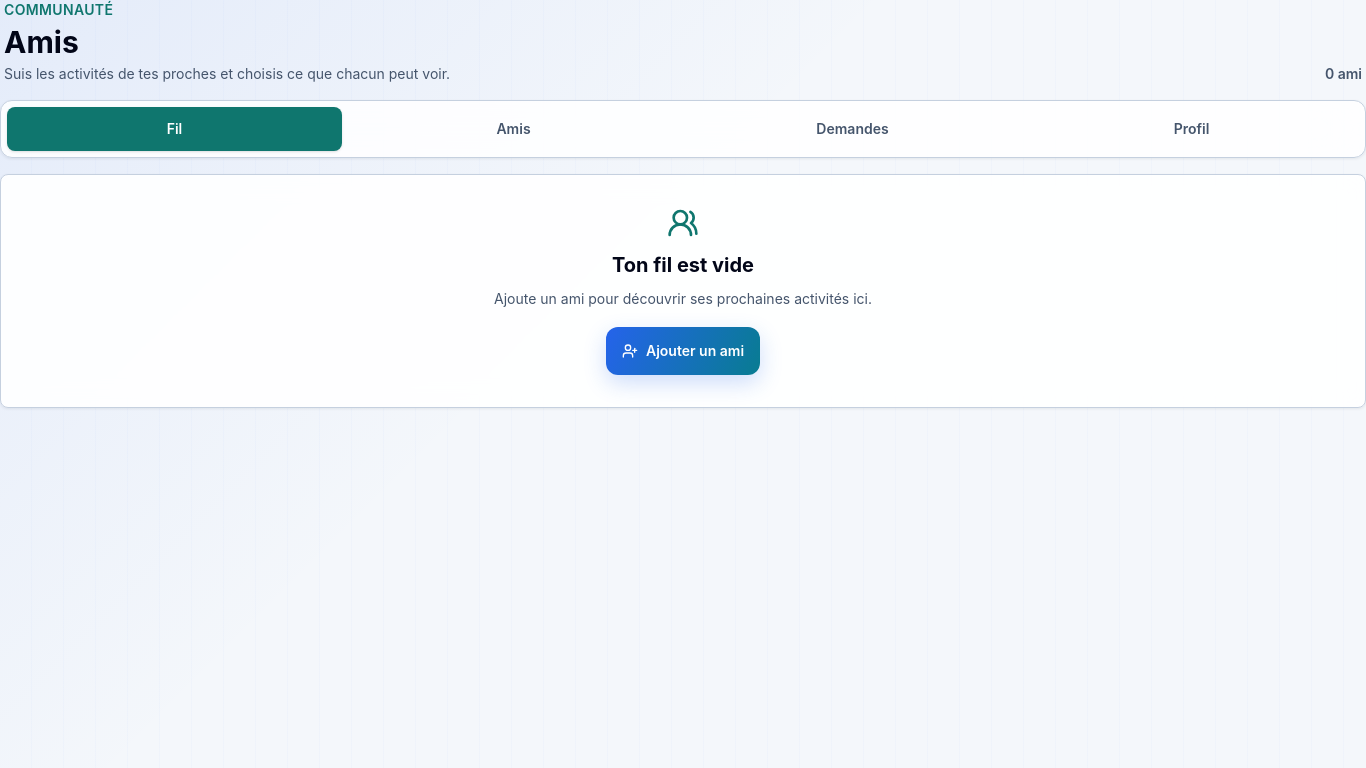
statut de l’identifiant public › place l’icône Copier avec le champ, puis le statut et l’action principale
The width and height of the screenshot is (1366, 768).
Step 1. Click the button with aria-label "Mon profil social" → (1192, 129), box [1024,107,1359,151]
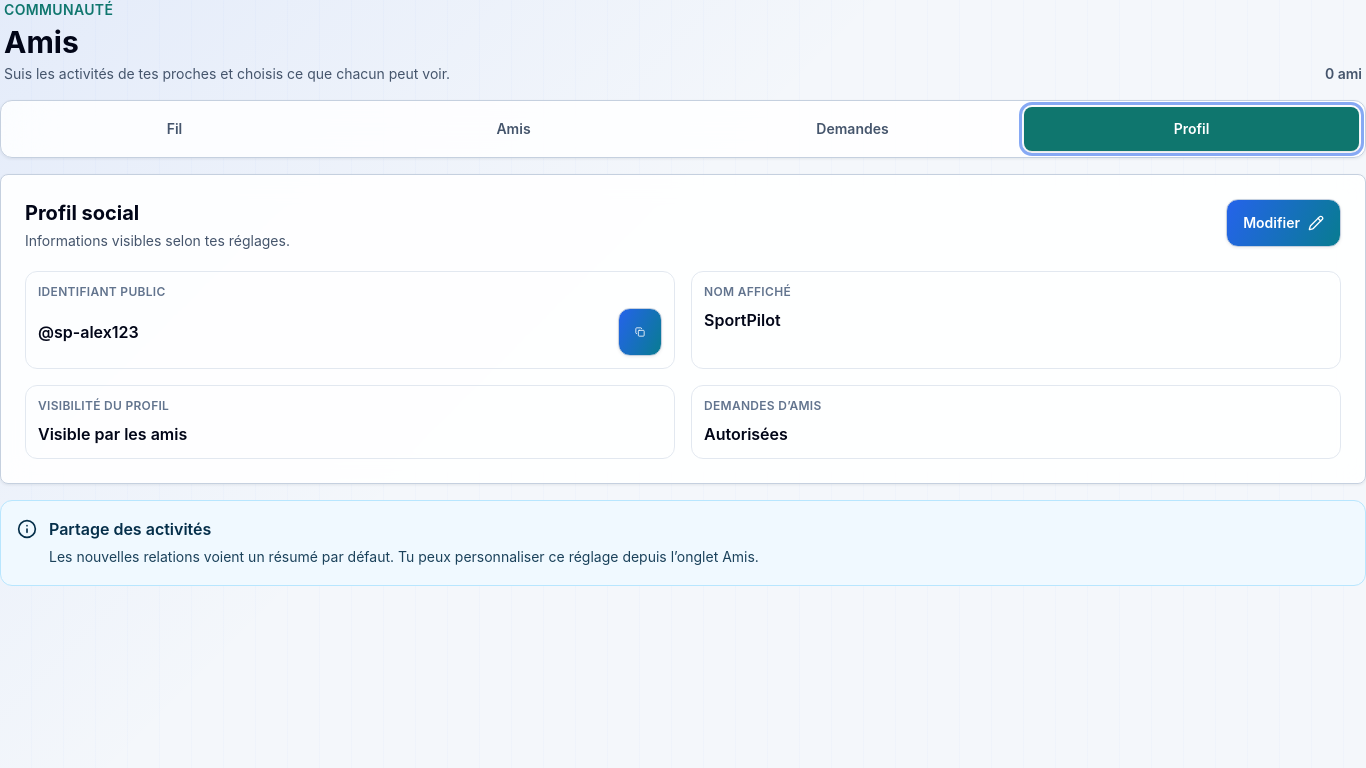
Step 2. Click the button with aria-label "Modifier le profil public" → (1284, 223), box [1226,199,1341,247]
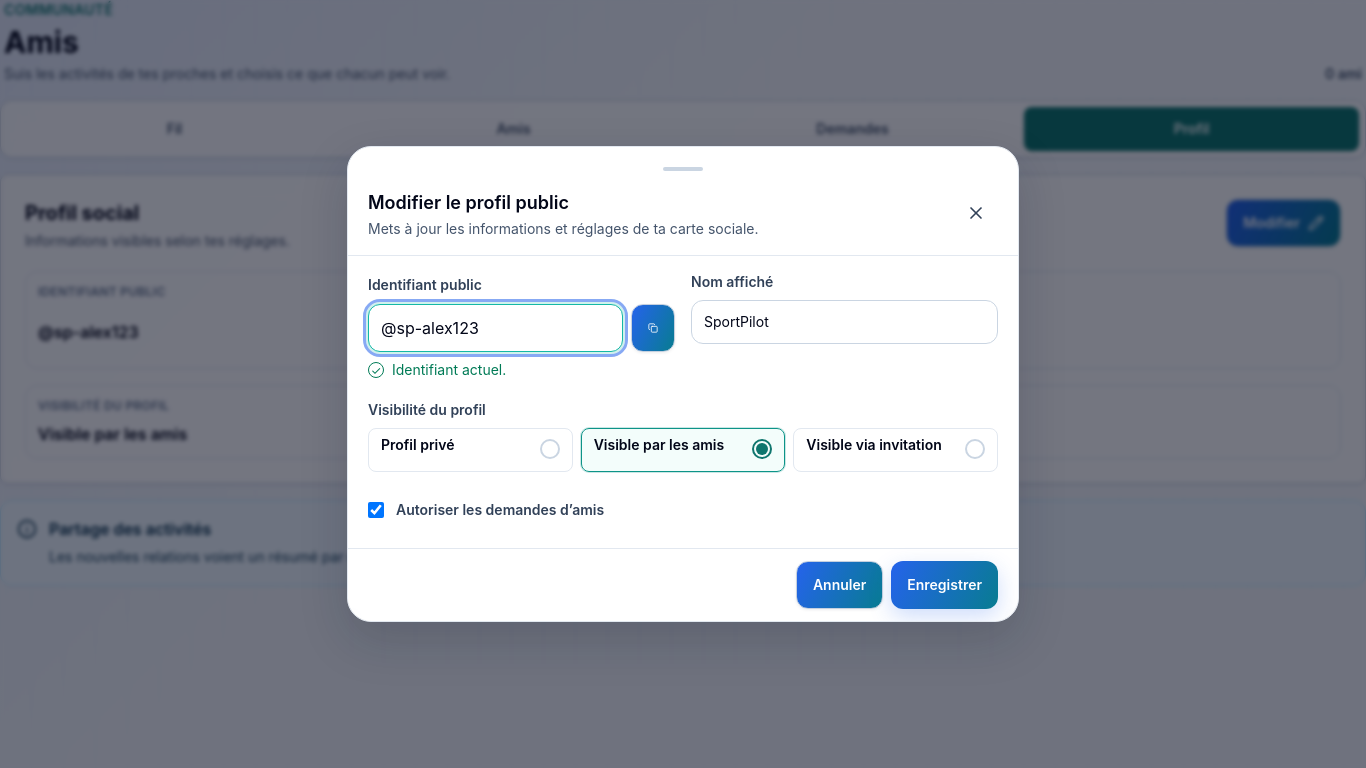
Expected: the button named "Copier l’identifiant public" does not show "Copier", [631,304,675,352]
Result: the message shows "Identifiant actuel." at [392,361,506,378]
Result: the element showing "Annuler Enregistrer" is shown at [348,548,1018,621]
